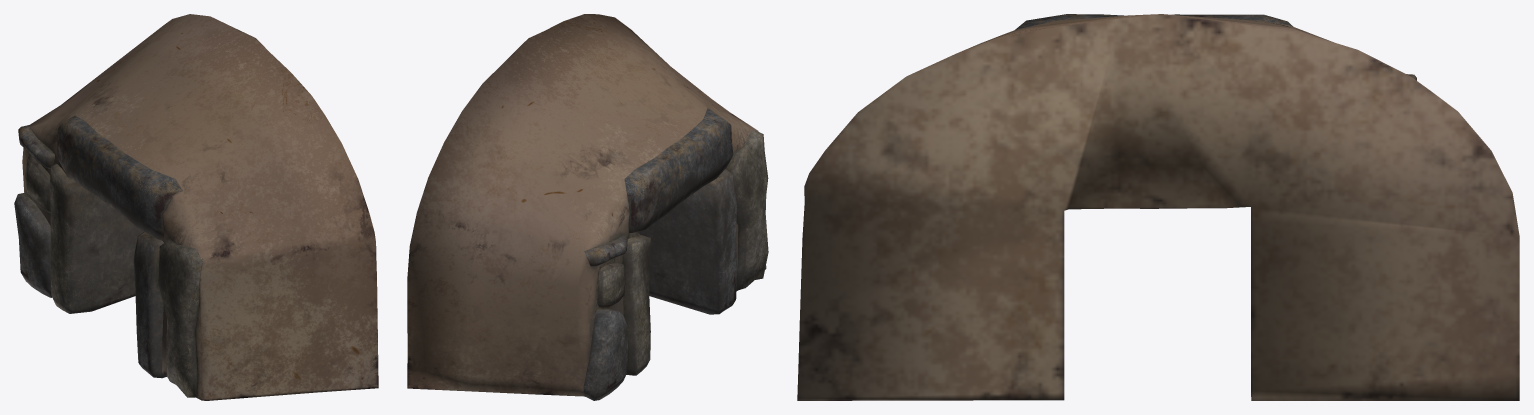
File: SM_Furnace.fbx
The picture shows the model from 3 angles, left to right: view 1: azimuth 30°, elevation 25°; view 2: azimuth 150°, elevation 25°; view 3: azimuth 270°, elevation 25°; orthographic projection. The views are drawn at different scales.
Visible parts, largest first — view 1: SM_Furnace; view 2: SM_Furnace; view 3: SM_Furnace.
Part boxes in pixels (<box>): SM_Furnace: <box>14,14,378,400</box>; SM_Furnace: <box>407,14,768,400</box>; SM_Furnace: <box>797,14,1519,400</box>.
Bounding box in the file's own units: 42.94 × 110 × 66.99.
1 material, 1 textured.
